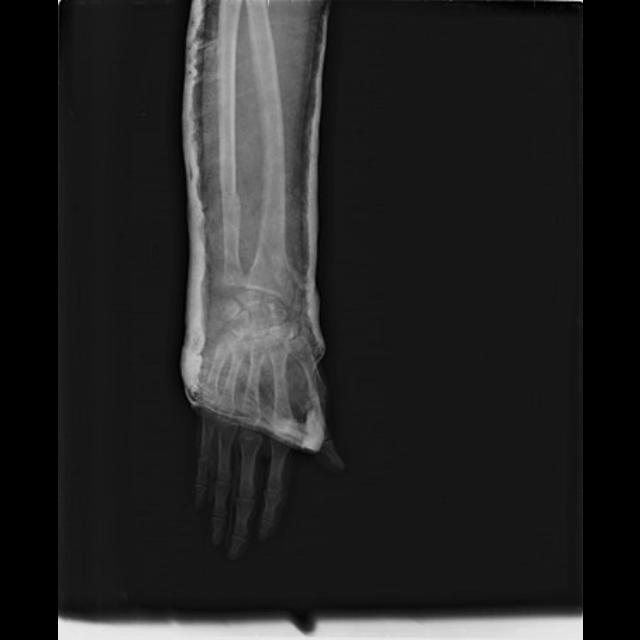Fracture: (217, 172, 240, 210)
